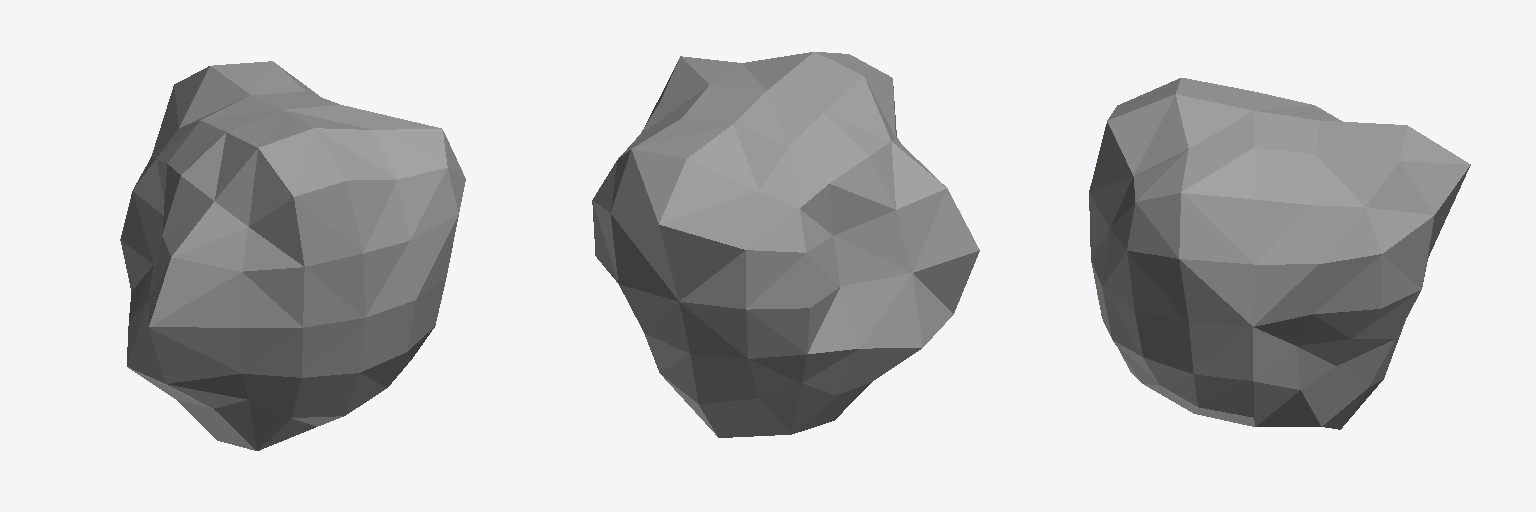
The model's file is asteroid1.obj.
3 views of the same model, side by side, from view 1: azimuth 30°, elevation 25°; view 2: azimuth 150°, elevation 25°; view 3: azimuth 270°, elevation 25° (orthographic).
Visible parts, largest first — view 1: Cube; view 2: Cube; view 3: Cube.
Part boxes in pixels (x1,y1,x2,y2): Cube: (120,61,465,450); Cube: (592,52,979,437); Cube: (1089,78,1470,429).
Size of the model in its own units: 1.98 by 1.96 by 2.06.